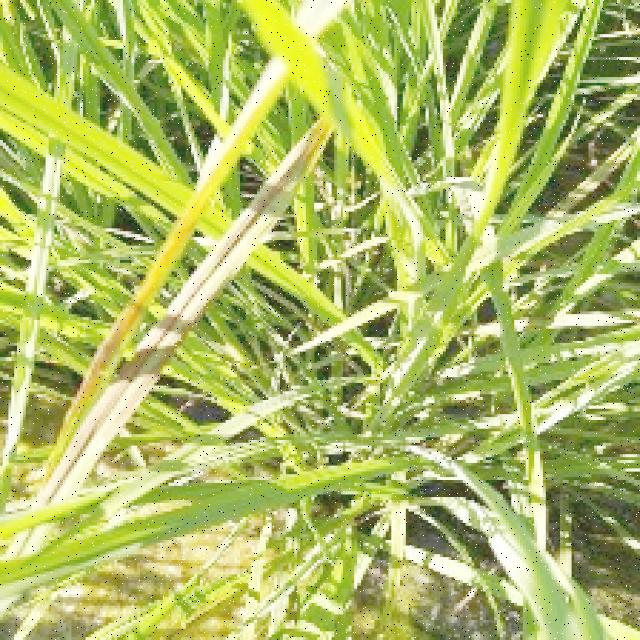-: (335, 0, 640, 637)
